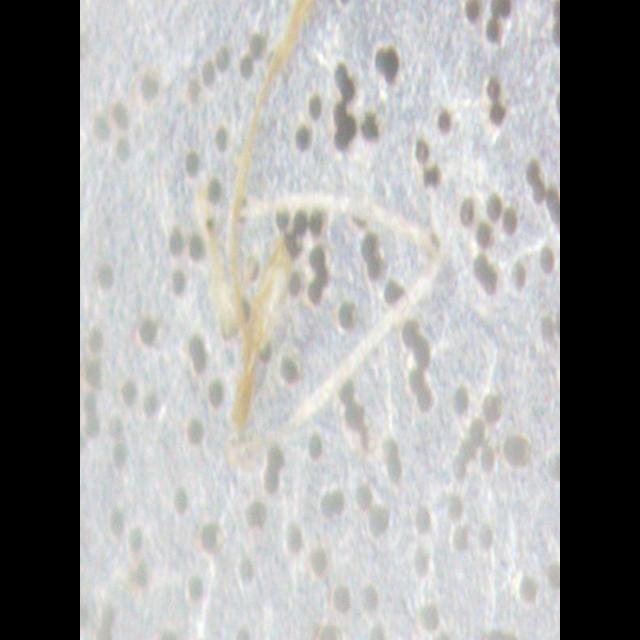Fibre: (207, 1, 445, 450)
